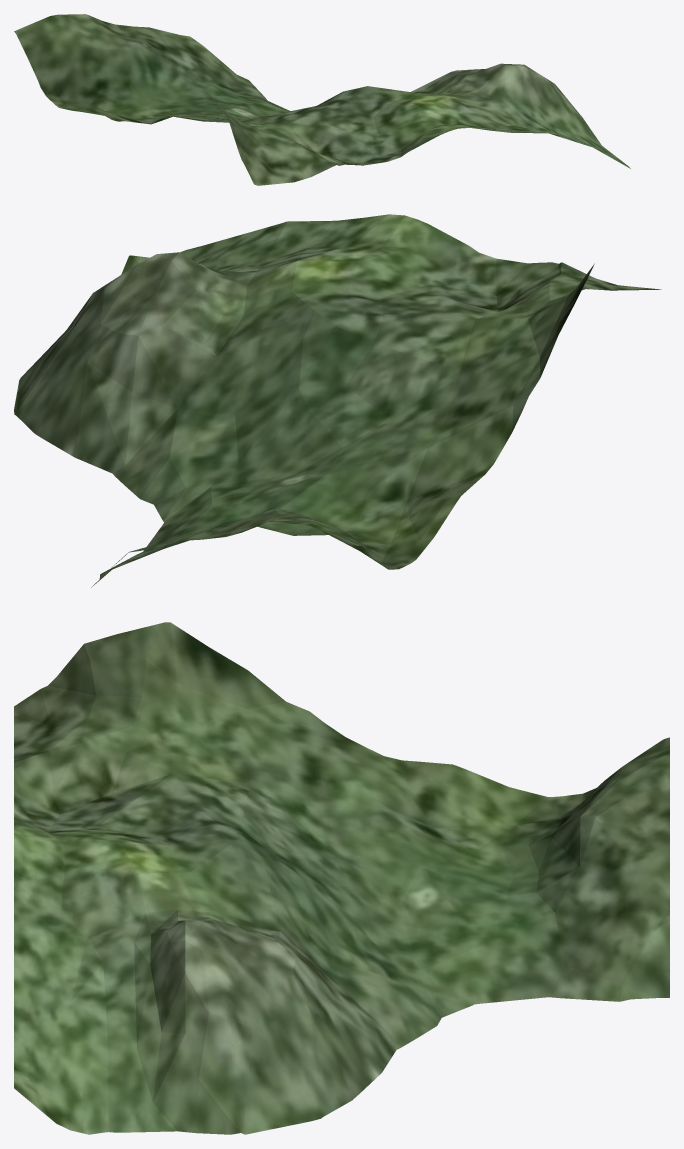
3 views of the same model, one above another, from view 1: azimuth 30°, elevation 25°; view 2: azimuth 150°, elevation 25°; view 3: azimuth 270°, elevation 25° (orthographic). The views are drawn at different scales.
Size of the model in its own units: 2.95 by 1.17 by 2.95.
2 materials, 2 textured.
